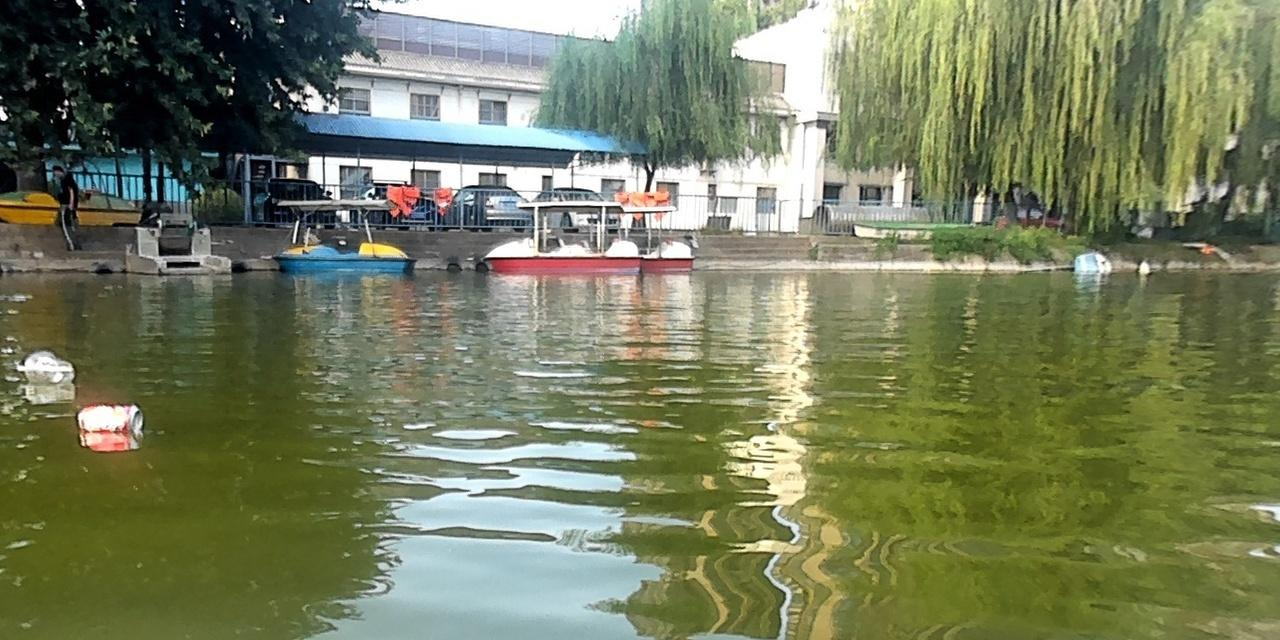bottle: (74, 401, 140, 435), (21, 349, 73, 384)
